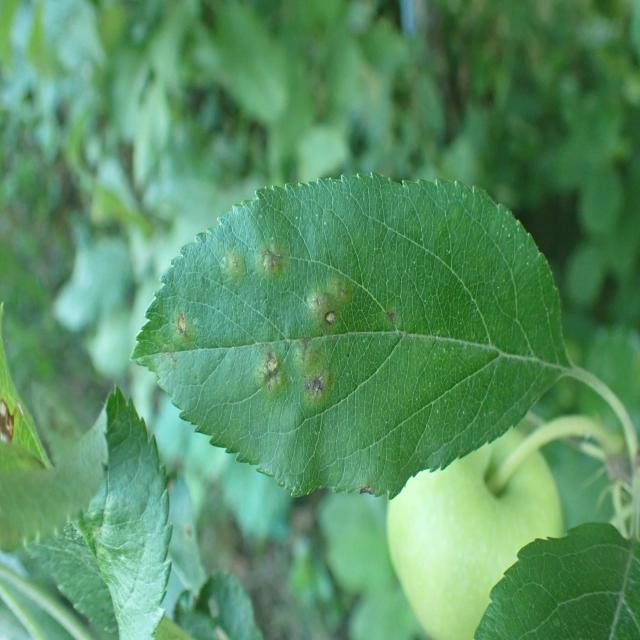scab: (295, 340, 369, 426), (246, 212, 300, 304), (158, 281, 210, 371), (302, 272, 350, 338), (246, 352, 291, 412), (215, 214, 242, 304), (370, 291, 399, 341)
